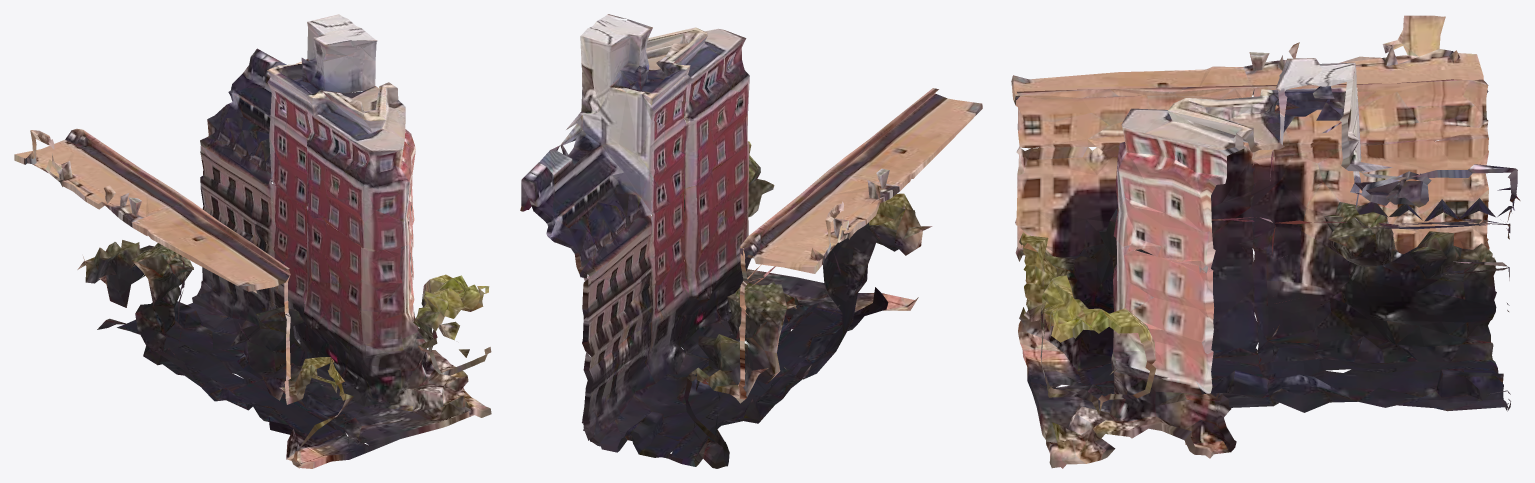
The picture shows the model from 3 angles, left to right: view 1: azimuth 30°, elevation 25°; view 2: azimuth 150°, elevation 25°; view 3: azimuth 270°, elevation 25°; orthographic projection. The views are drawn at different scales.
Parts seen in each view (by area): view 1: Mesh_0; view 2: Mesh_0; view 3: Mesh_0.
Part boxes in pixels (left/top/right/bottom): Mesh_0: left=14, top=14, right=491, bottom=468; Mesh_0: left=520, top=14, right=982, bottom=468; Mesh_0: left=1011, top=15, right=1520, bottom=468.
Size of the model in its own units: 33.45 by 34.2 by 41.41.
Materials: 1 (1 with a texture image).
